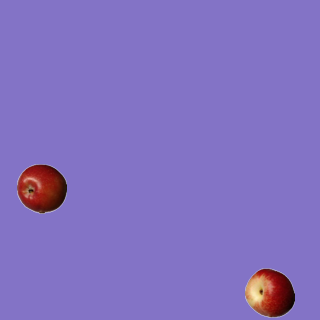Apple Braeburn: (16, 163, 66, 213)
Nectarine: (244, 267, 294, 317)
